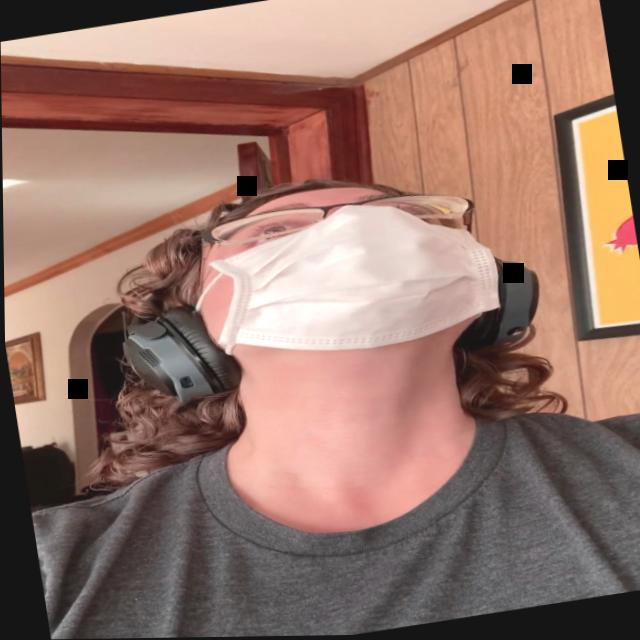Mask: (179, 166, 507, 380)
